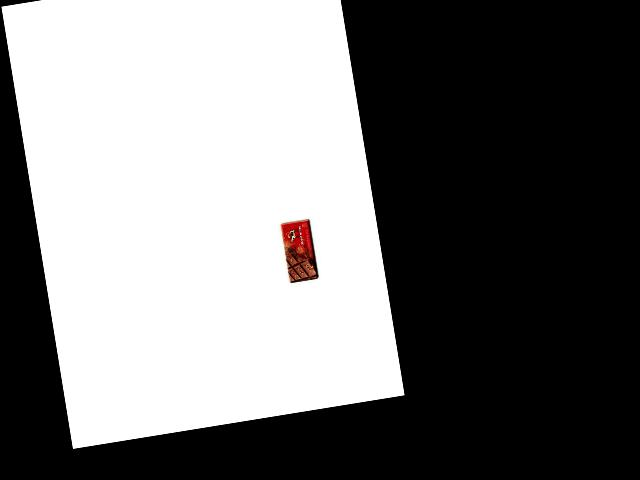chocolate: (279, 218, 320, 284)
